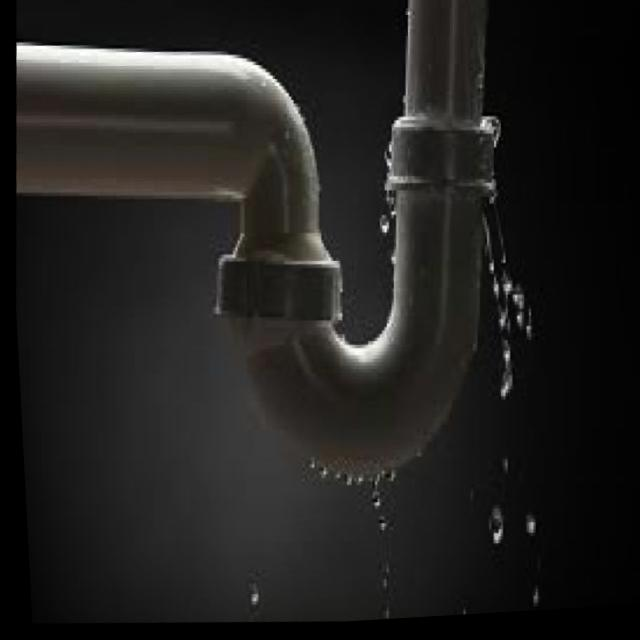leak: (458, 82, 551, 614)
